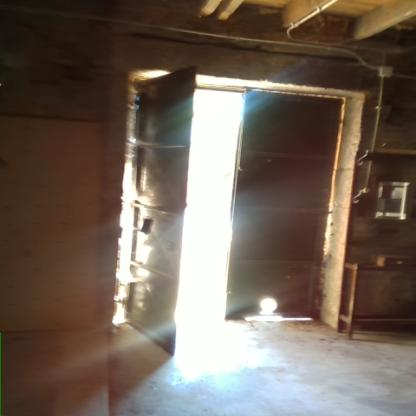semi: (166, 67, 376, 352)
